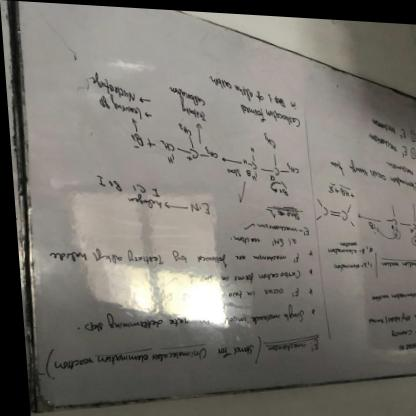Handwritten text: (74, 297, 304, 340), (44, 338, 252, 377), (42, 239, 287, 271), (230, 95, 306, 136), (156, 82, 214, 128), (192, 265, 300, 283), (216, 282, 283, 301)
Whiteboard: (14, 1, 416, 415)
